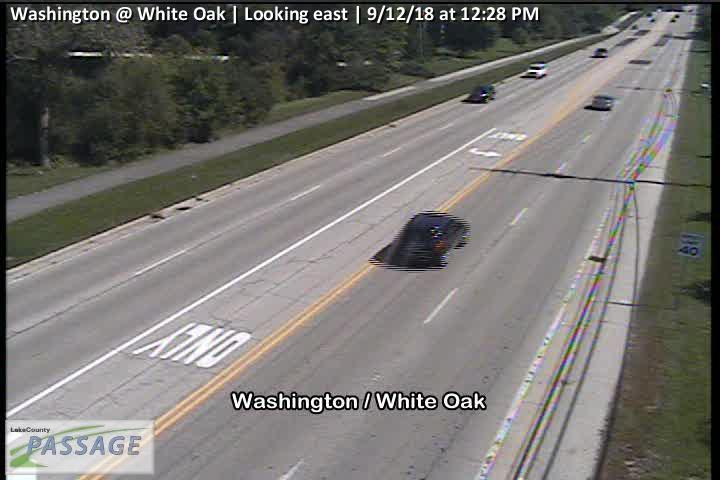SUV: (389, 210, 469, 269), (468, 83, 496, 103), (526, 62, 547, 78)
Sedan: (591, 94, 614, 109), (593, 46, 608, 57)
